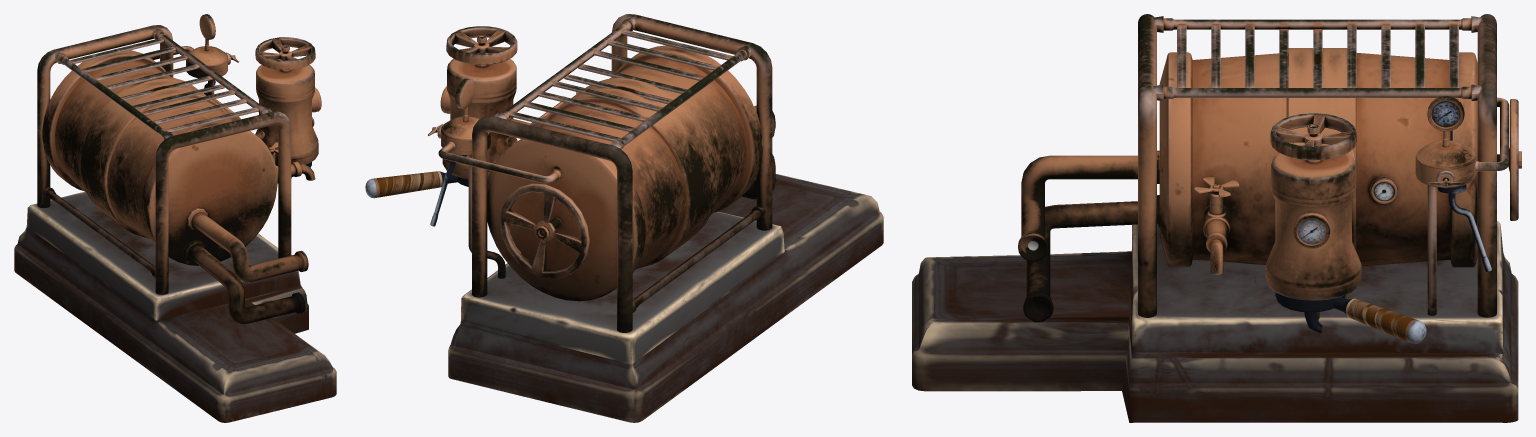
Rendered from EssenceExtractor.fbx.
3 renders of one model, left to right at view 1: azimuth 30°, elevation 25°; view 2: azimuth 150°, elevation 25°; view 3: azimuth 270°, elevation 25°, orthographic. The views are drawn at different scales.
Visible parts, largest first — view 1: l1_low, l2_low, l3_low; view 2: l1_low, l2_low, l3_low, l2_low.001; view 3: l1_low, l2_low, l3_low, l2_low.001, l3_low.001.
Part boxes in pixels (left/top/right/bottom): l1_low: left=14, top=50, right=336, bottom=422; l2_low: left=42, top=14, right=315, bottom=323; l3_low: left=37, top=25, right=321, bottom=294; l1_low: left=442, top=45, right=883, bottom=422; l2_low: left=428, top=17, right=775, bottom=312; l3_low: left=440, top=14, right=772, bottom=332; l2_low.001: left=365, top=171, right=457, bottom=198; l1_low: left=912, top=48, right=1518, bottom=422; l2_low: left=1018, top=16, right=1521, bottom=322; l3_low: left=1138, top=14, right=1496, bottom=317; l2_low.001: left=1333, top=297, right=1426, bottom=343; l3_low.001: left=1275, top=292, right=1345, bottom=333.
Bounding box in the file's own units: 187 × 155 × 258.
